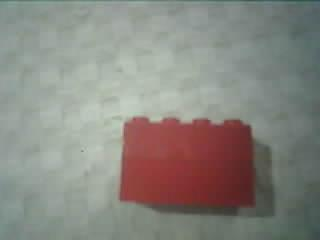lego: (116, 114, 257, 206)
